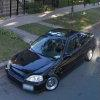Car: (5, 20, 98, 93)
